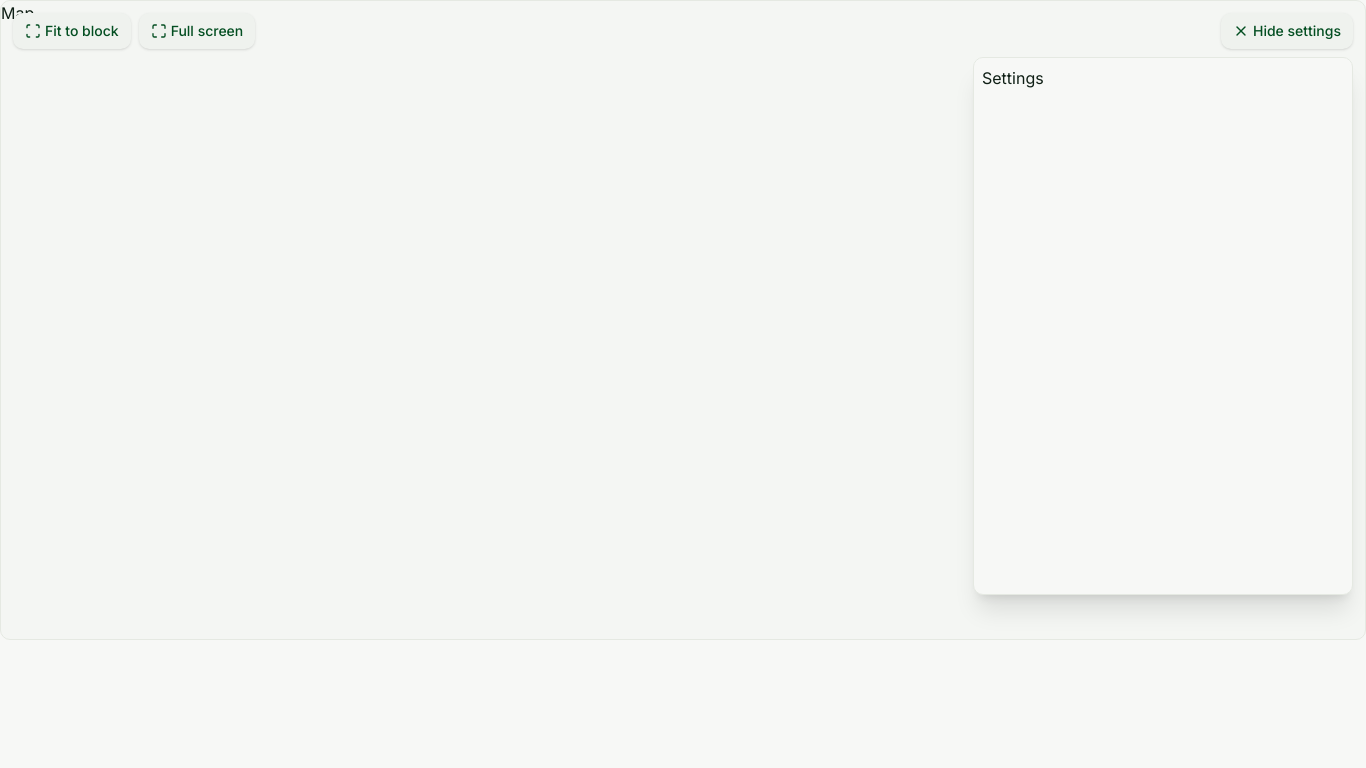
Test: row map workspace › leaves Escape to open dialogs and removes the full-screen host on navigation
Later steps or results of the test are not shown.
Click the button "Full screen". click: [197, 31]
box: [139,13,255,49]
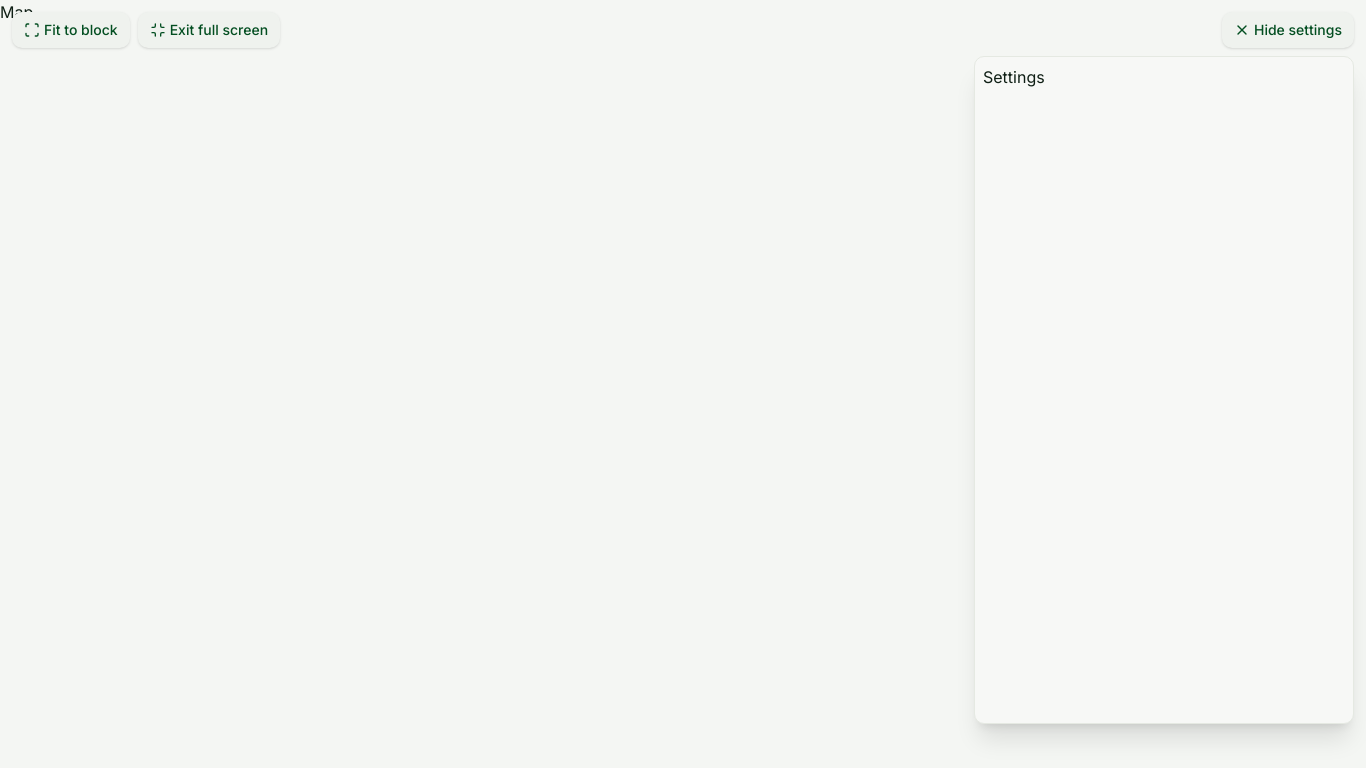
Press Escape
Now the element showing "Map Fit to block Exit full screen Hide settings Settings" has attribute data-full-screen="true"
